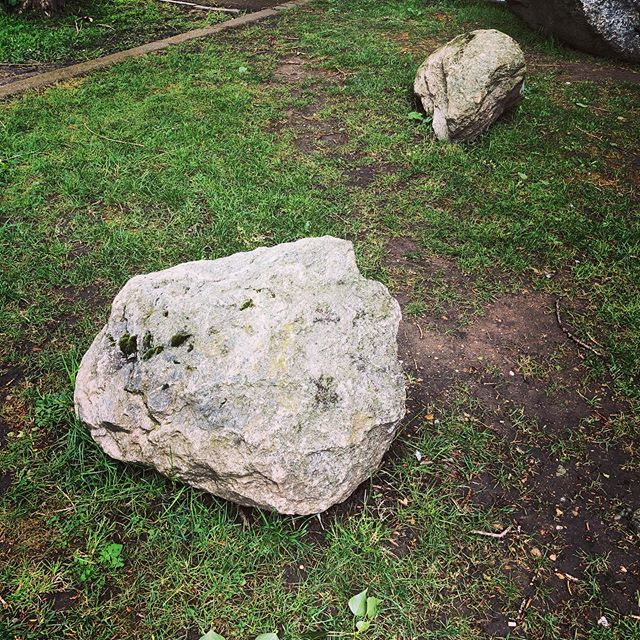grass: (9, 25, 640, 640)
rocks: (64, 219, 432, 534), (399, 13, 531, 151)
